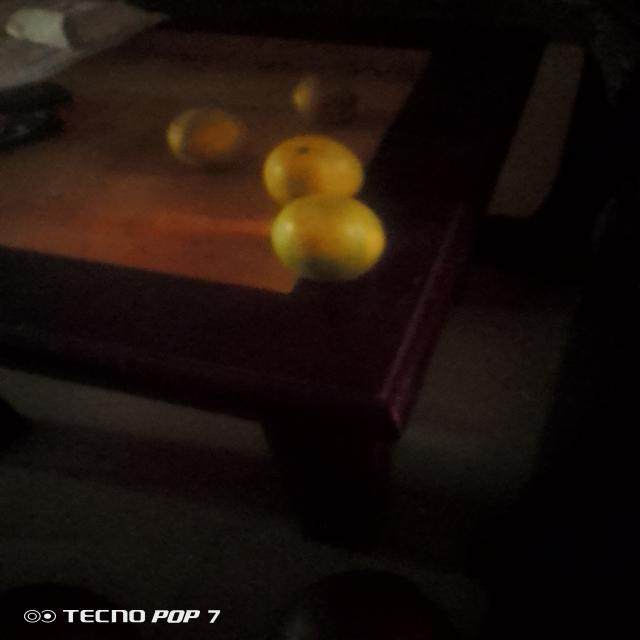Ripe orange: (251, 192, 418, 279), (243, 131, 374, 200), (175, 112, 259, 178)
Unripe: (275, 59, 379, 129)
